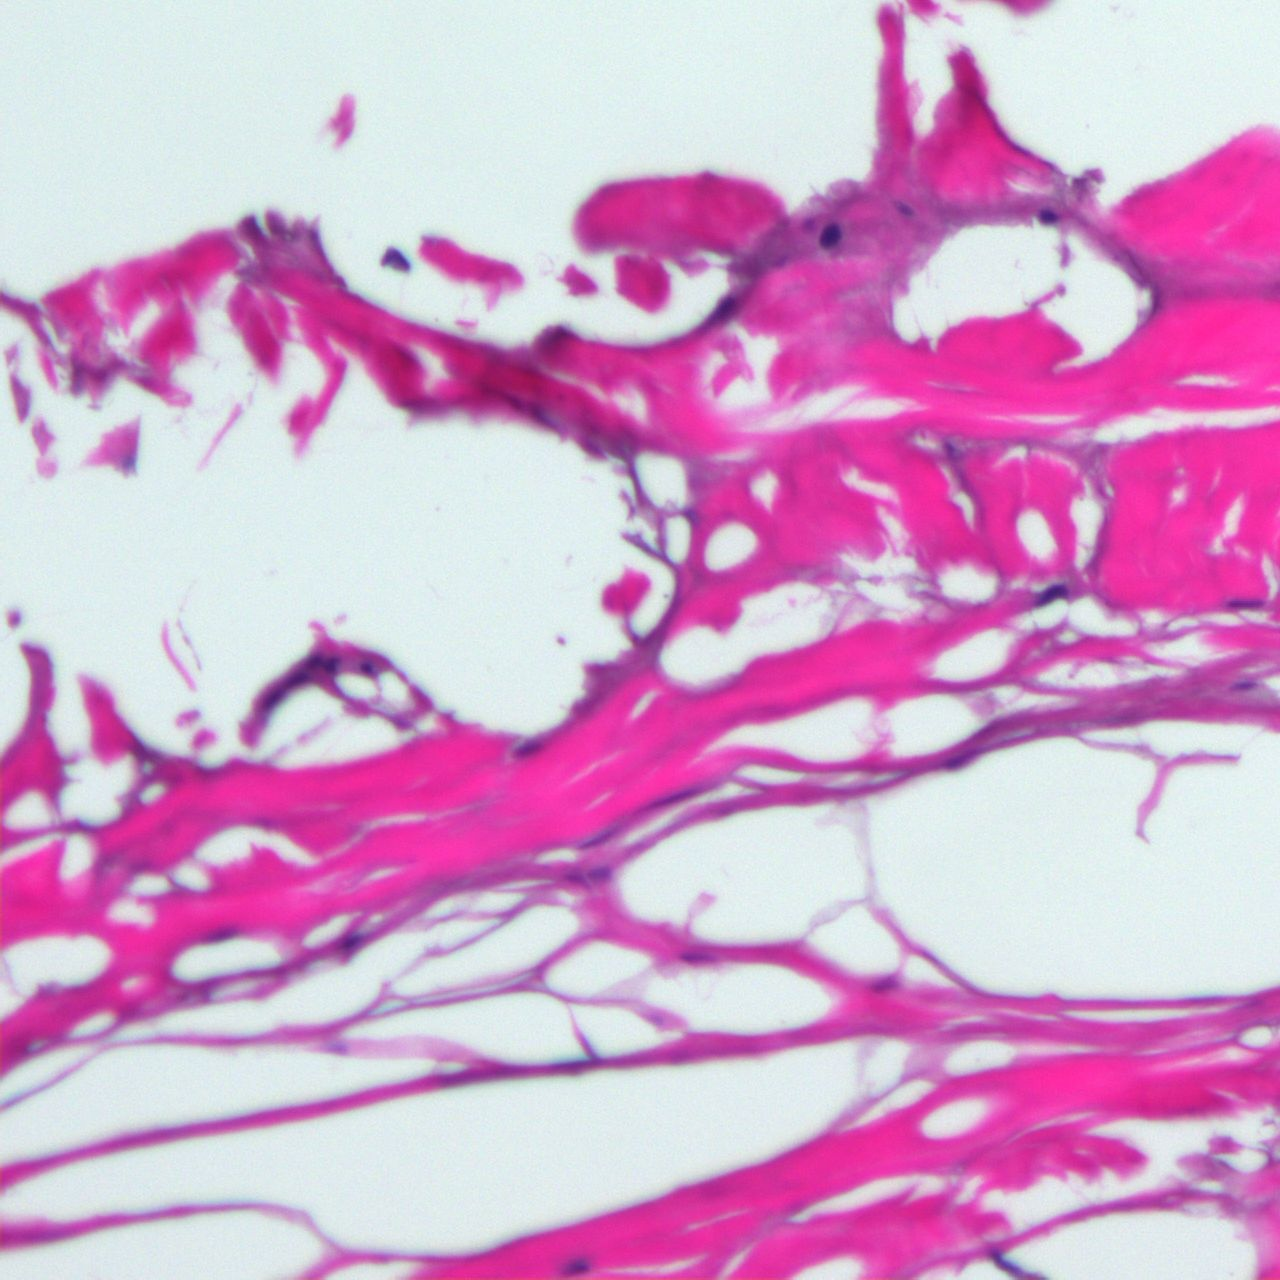nucleus-HE: (1033, 580, 1068, 608), (816, 222, 844, 251), (515, 736, 542, 760), (713, 295, 734, 316), (263, 689, 281, 709), (1227, 598, 1261, 608), (1232, 680, 1257, 692), (564, 1261, 588, 1273), (1040, 210, 1055, 222), (683, 951, 697, 961), (324, 659, 334, 672), (361, 663, 372, 672)
